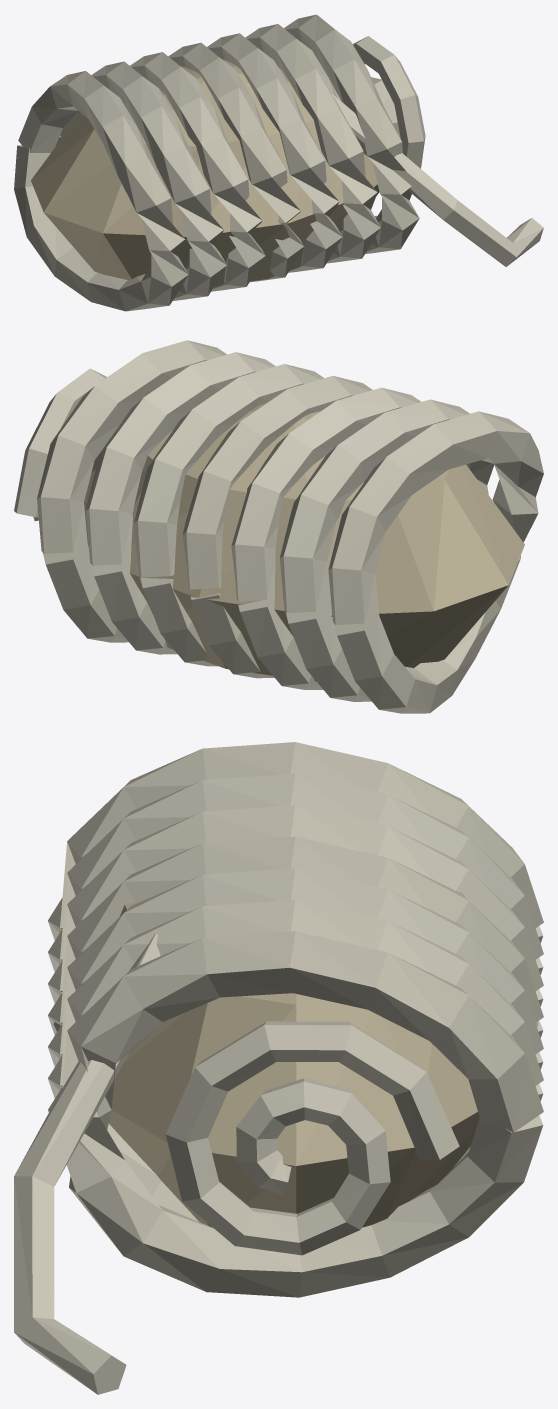
The model's file is wool.glb.
3 renders of one model, top to bottom at view 1: azimuth 30°, elevation 25°; view 2: azimuth 150°, elevation 25°; view 3: azimuth 270°, elevation 25°, orthographic. The views are drawn at different scales.
Parts seen in each view (by area): view 1: geometry; view 2: geometry; view 3: geometry.
Boxes of the visible parts, box(x1,y1,x2,y2) form: geometry: box(14, 14, 543, 311); geometry: box(14, 340, 543, 713); geometry: box(14, 742, 543, 1394).
Size of the model in its own units: 0.4572 by 0.2136 by 0.284.
